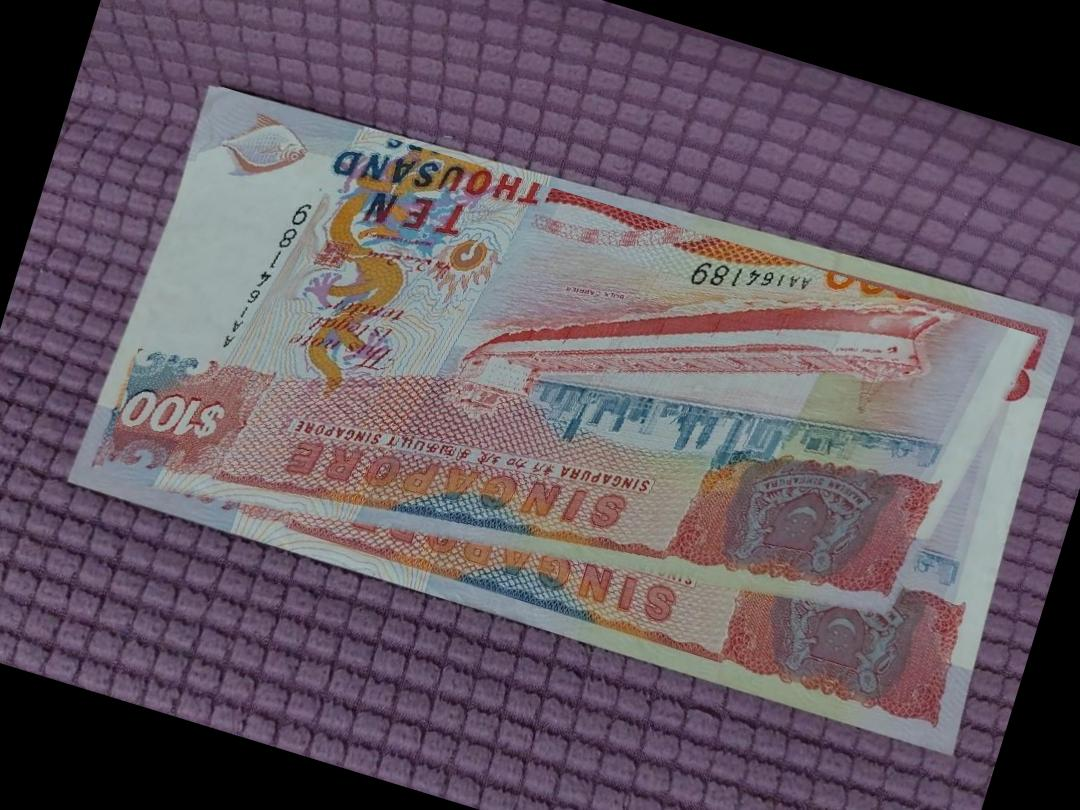10000SingaporeDollar: (95, 87, 1062, 748)
